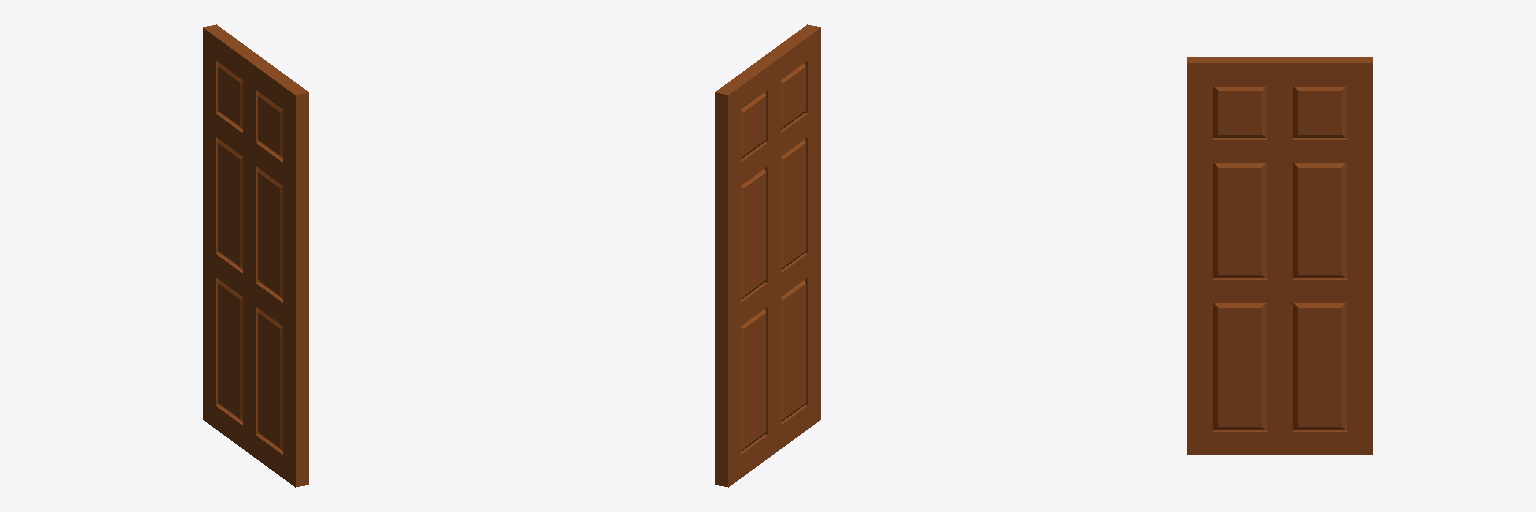
Rendered from door.obj.
3 views of the same model, side by side, from view 1: azimuth 30°, elevation 25°; view 2: azimuth 150°, elevation 25°; view 3: azimuth 270°, elevation 25° (orthographic).
Parts seen in each view (by area): view 1: Mesh1 Group1 door1 Model; view 2: Mesh1 Group1 door1 Model; view 3: Mesh1 Group1 door1 Model.
Part boxes in pixels (x1,y1,x2,y2): Mesh1 Group1 door1 Model: (203, 24, 308, 487); Mesh1 Group1 door1 Model: (715, 24, 820, 487); Mesh1 Group1 door1 Model: (1187, 57, 1372, 454).
Bounding box in the file's own units: 0.0747 × 2.09 × 0.8961.